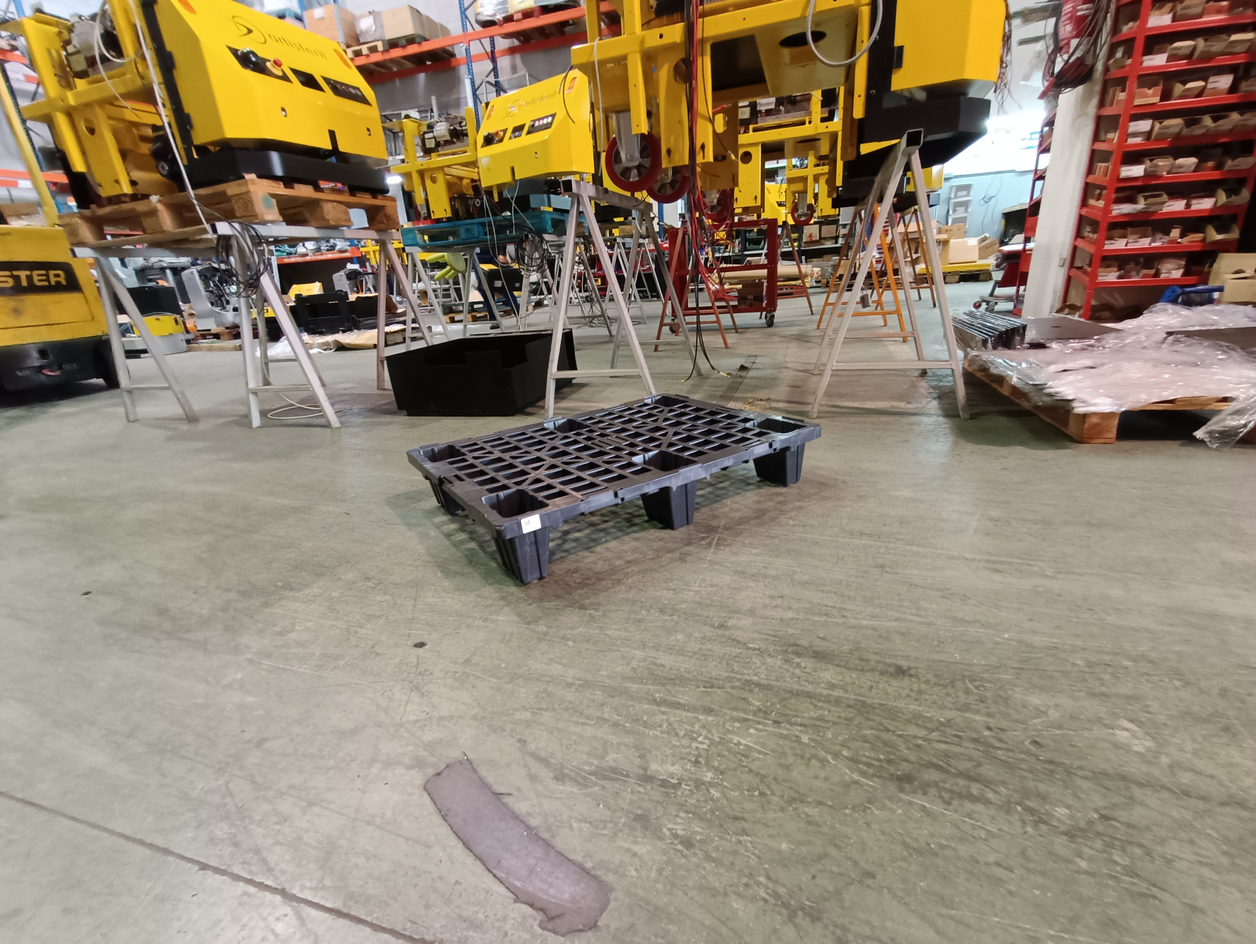block: (500, 502, 554, 582), (760, 425, 819, 482), (662, 470, 706, 527)
front: (505, 407, 841, 602)
hole pallet: (550, 491, 671, 571), (701, 442, 784, 522)
